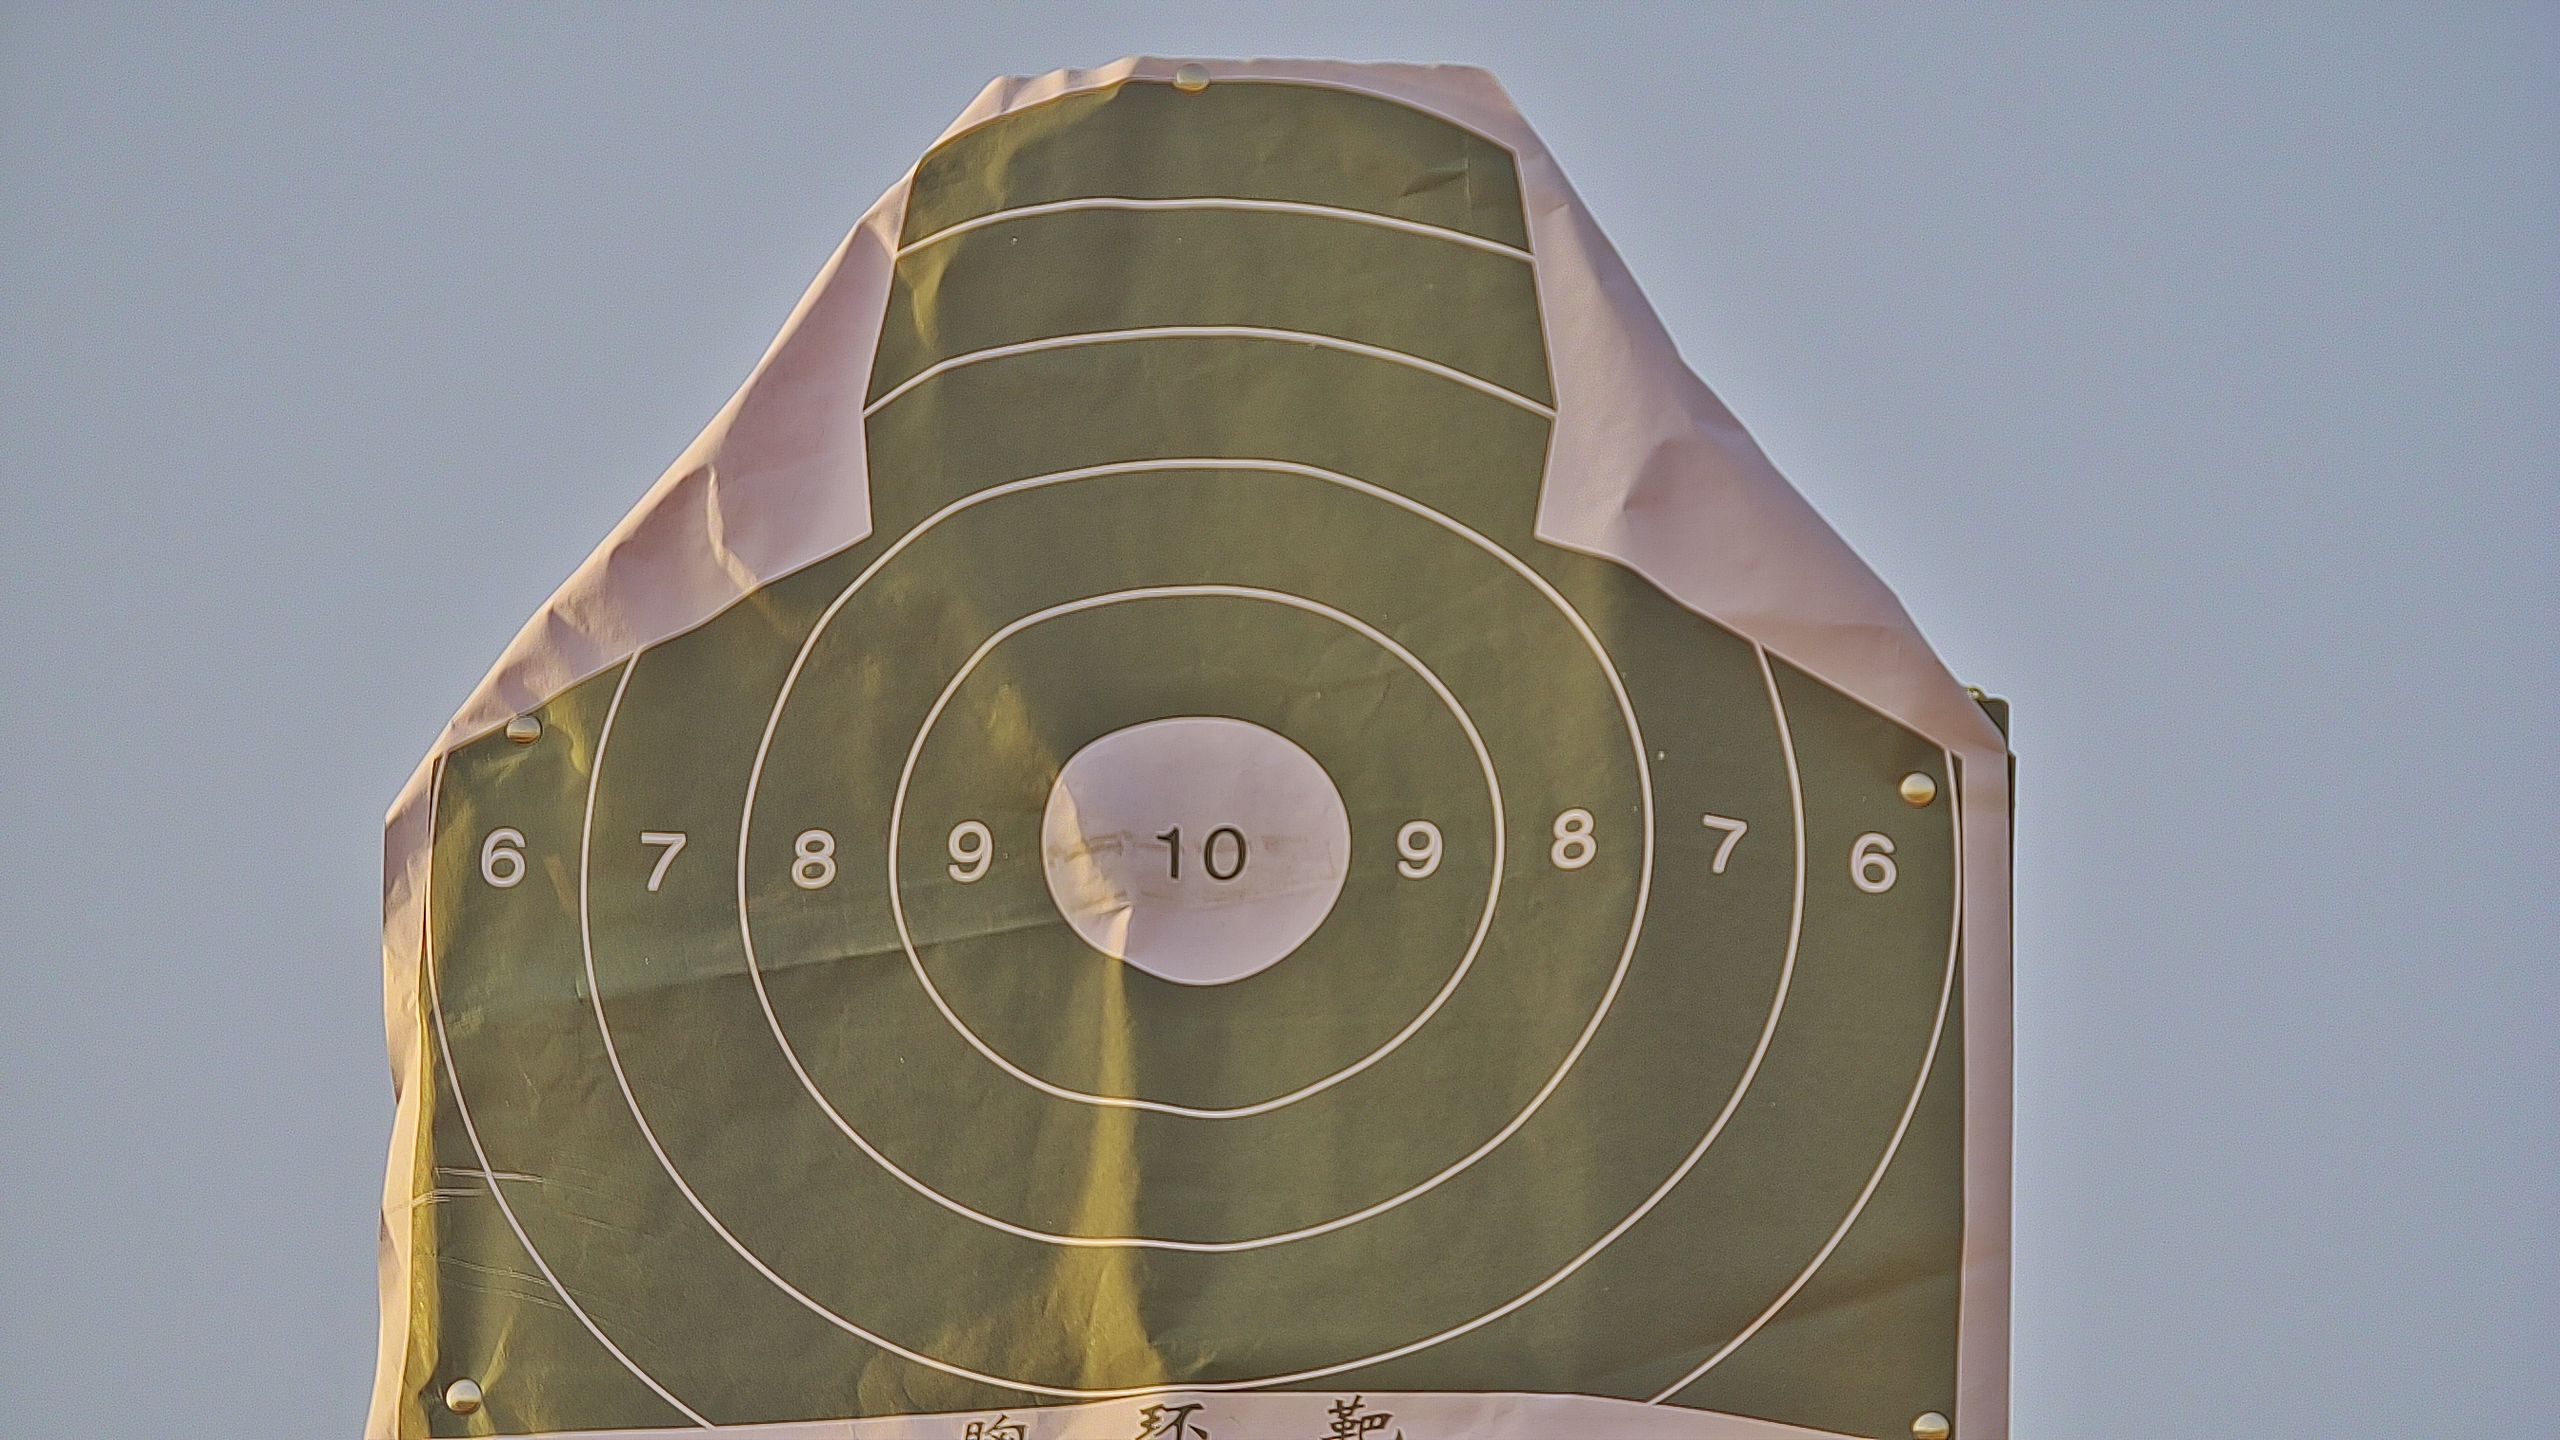kernel: (1189, 855, 1196, 856)
target: (415, 88, 1976, 1440)
ten: (1037, 716, 1356, 993)
